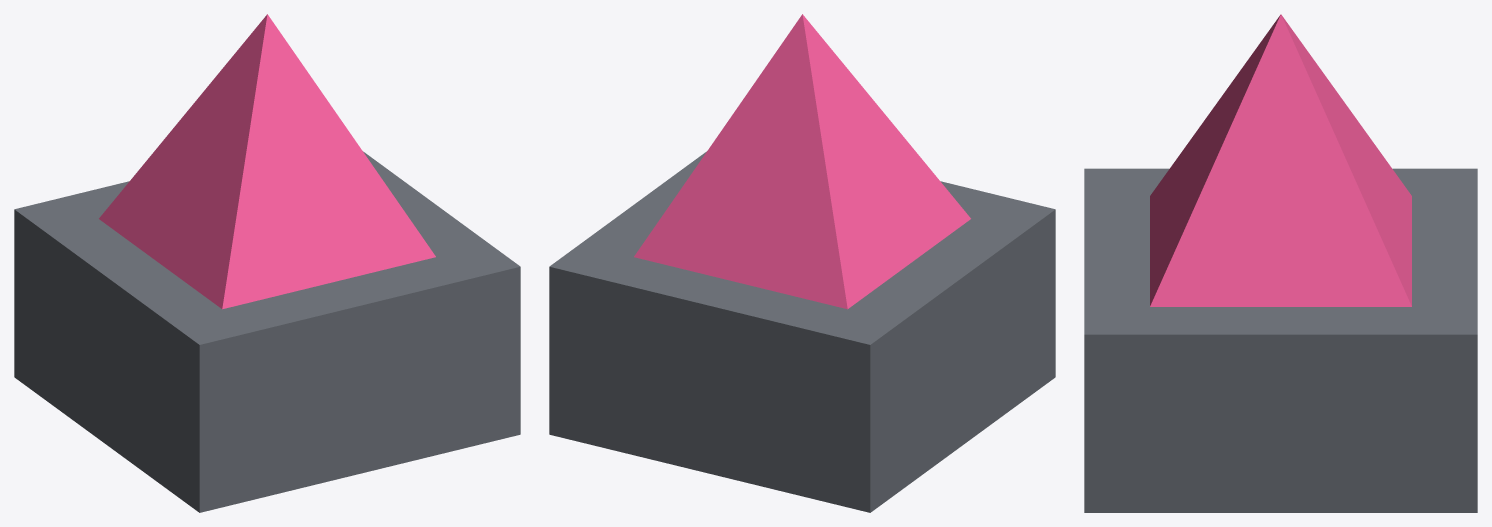
Rendered from connectorDemo.obj.
3 renders of one model, left to right at view 1: azimuth 30°, elevation 25°; view 2: azimuth 150°, elevation 25°; view 3: azimuth 270°, elevation 25°, orthographic. The views are drawn at different scales.
Bounding box in the file's own units: 0.75 × 0.875 × 0.75.
